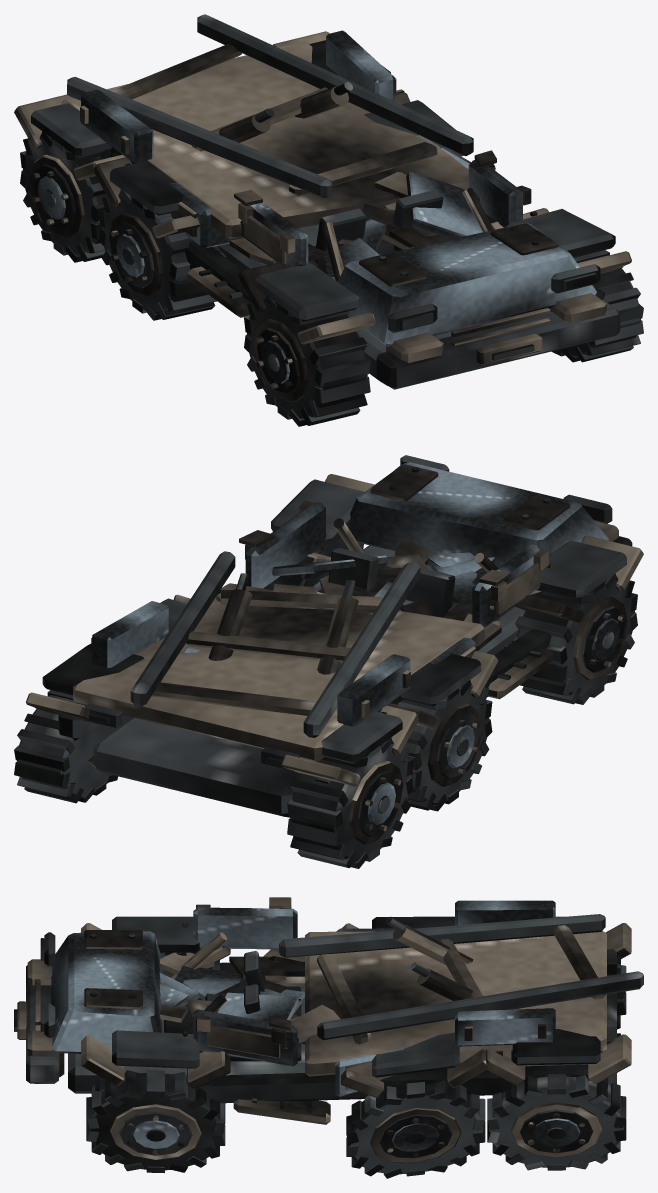
The model's file is shkval-2.glb.
The picture shows the model from 3 angles, top to bottom: view 1: azimuth 30°, elevation 25°; view 2: azimuth 150°, elevation 25°; view 3: azimuth 270°, elevation 25°; orthographic projection. The views are drawn at different scales.
Visible parts, largest first — view 1: wreck.shkval.structure, wreck.shkval.neutral, wreck.shkval.team; view 2: wreck.shkval.structure, wreck.shkval.neutral, wreck.shkval.team; view 3: wreck.shkval.structure, wreck.shkval.neutral, wreck.shkval.team.
Boxes of the visible parts, box(x1,y1,x2,y2) form: wreck.shkval.structure: box(20, 14, 643, 426); wreck.shkval.neutral: box(14, 31, 631, 402); wreck.shkval.team: box(37, 30, 596, 383); wreck.shkval.structure: box(14, 455, 637, 868); wreck.shkval.neutral: box(26, 464, 643, 844); wreck.shkval.team: box(92, 462, 620, 825); wreck.shkval.structure: box(14, 914, 643, 1178); wreck.shkval.neutral: box(17, 897, 631, 1162); wreck.shkval.team: box(51, 900, 580, 1151).
Size of the model in its own units: 1.94 by 1.05 by 3.44.
Materials: 3 (3 with a texture image).
